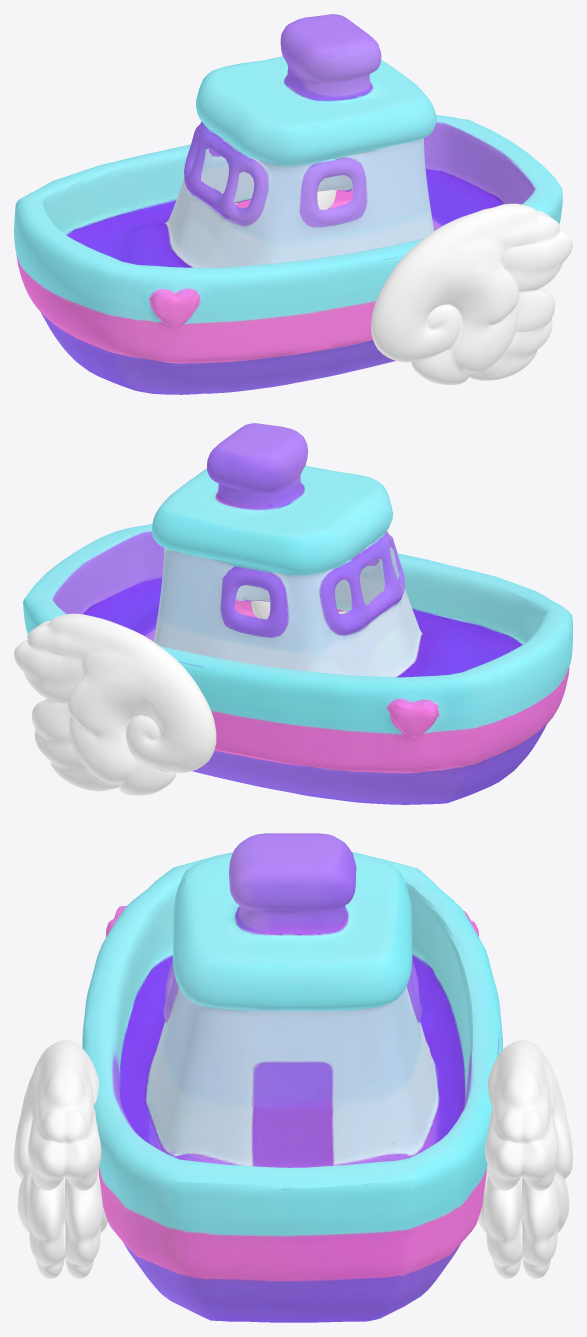
The model's file is cosmic-boat.glb.
3 renders of one model, top to bottom at view 1: azimuth 30°, elevation 25°; view 2: azimuth 150°, elevation 25°; view 3: azimuth 270°, elevation 25°, orthographic. The views are drawn at different scales.
Visible parts, largest first — view 1: Mesh_0, Mesh_0.002; view 2: Mesh_0, Mesh_0.001; view 3: Mesh_0, Mesh_0.001, Mesh_0.002.
Boxes of the visible parts, bbox=[...] form: Mesh_0: bbox=[14, 14, 562, 394]; Mesh_0.002: bbox=[371, 203, 572, 384]; Mesh_0: bbox=[23, 423, 572, 804]; Mesh_0.001: bbox=[14, 613, 216, 795]; Mesh_0: bbox=[82, 833, 502, 1322]; Mesh_0.001: bbox=[478, 1040, 572, 1278]; Mesh_0.002: bbox=[14, 1040, 108, 1278].
Size of the model in its own units: 1.91 by 1.14 by 1.49.
3 materials, 3 textured.
